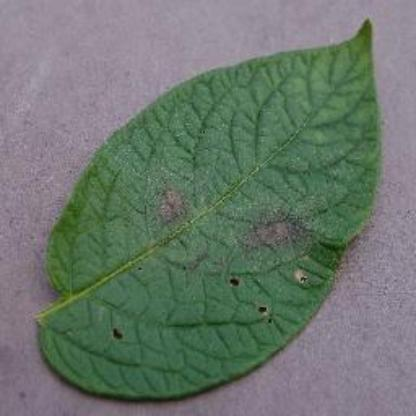Late-Blight: (40, 11, 400, 408)
